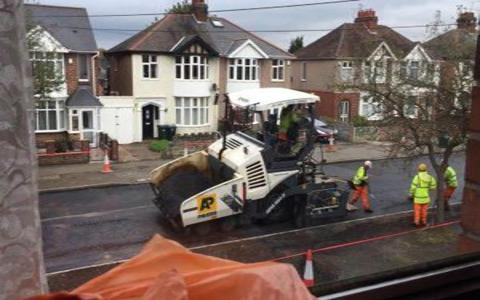Proper road: (46, 191, 138, 258)
